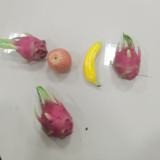apple: (48, 48, 72, 73)
pitaya: (34, 89, 74, 138), (113, 35, 141, 80), (7, 33, 48, 63)
